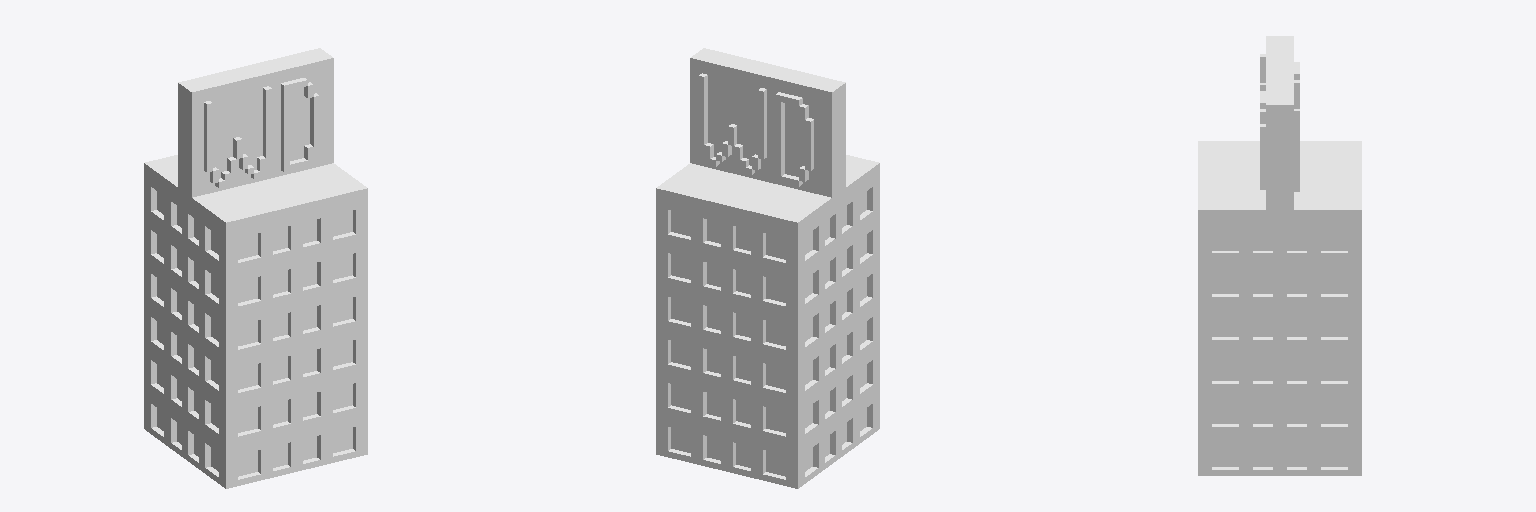
Rendered from WDBuilding.obj.
3 views of the same model, side by side, from view 1: azimuth 30°, elevation 25°; view 2: azimuth 150°, elevation 25°; view 3: azimuth 270°, elevation 25° (orthographic).
Parts seen in each view (by area): view 1: object 1; view 2: object 1; view 3: object 1.
Boxes of the visible parts, x1=… form: object 1: x1=144, y1=48, x2=367, y2=488; object 1: x1=656, y1=48, x2=879, y2=488; object 1: x1=1198, y1=36, x2=1361, y2=475.
Bounding box in the file's own units: 2.4 × 6 × 2.4.